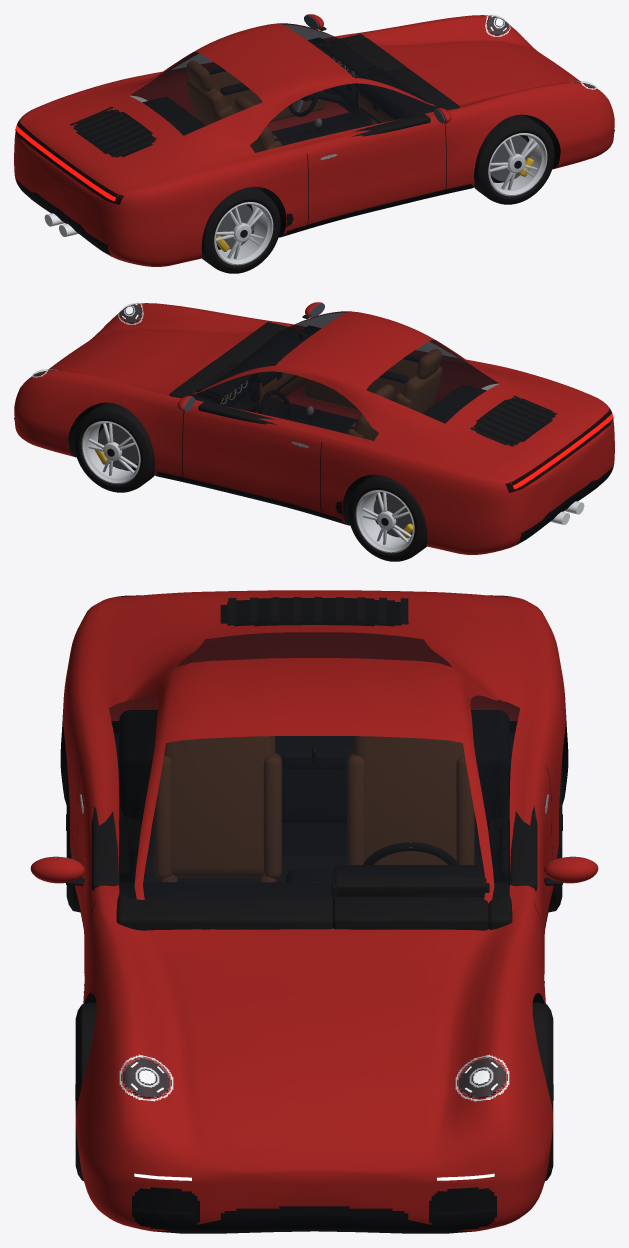
File: car.glb
The picture shows the model from 3 angles, top to bottom: view 1: azimuth 30°, elevation 25°; view 2: azimuth 150°, elevation 25°; view 3: azimuth 270°, elevation 25°; orthographic projection. The views are drawn at different scales.
Visible parts, largest first — view 1: shell, glass, interior, wheel_fr, wheel_rr, wheel_steer; view 2: shell, glass, interior, wheel_fl, wheel_rl, wheel_steer; view 3: shell, interior, glass, wheel_fr, wheel_fl, wheel_rr, wheel_rl, wheel_steer.
Boxes of the visible parts, x1,y1,x2,y2 form: shell: (14, 14, 614, 266); glass: (129, 23, 435, 152); interior: (142, 34, 459, 233); wheel_fr: (474, 114, 554, 204); wheel_rr: (201, 186, 280, 273); wheel_steer: (288, 91, 345, 116); shell: (14, 302, 614, 554); glass: (193, 311, 499, 440); interior: (169, 322, 486, 524); wheel_fl: (74, 402, 154, 492); wheel_rl: (348, 474, 427, 561); wheel_steer: (260, 389, 293, 420); shell: (30, 590, 598, 1233); interior: (91, 710, 537, 930); glass: (109, 632, 519, 899); wheel_fr: (75, 1002, 96, 1180); wheel_fl: (532, 1002, 553, 1180); wheel_rr: (66, 733, 145, 912); wheel_rl: (487, 733, 562, 912); wheel_steer: (363, 842, 458, 864).
Bounding box in the file's own units: 4.6 × 1.3 × 2.18.
